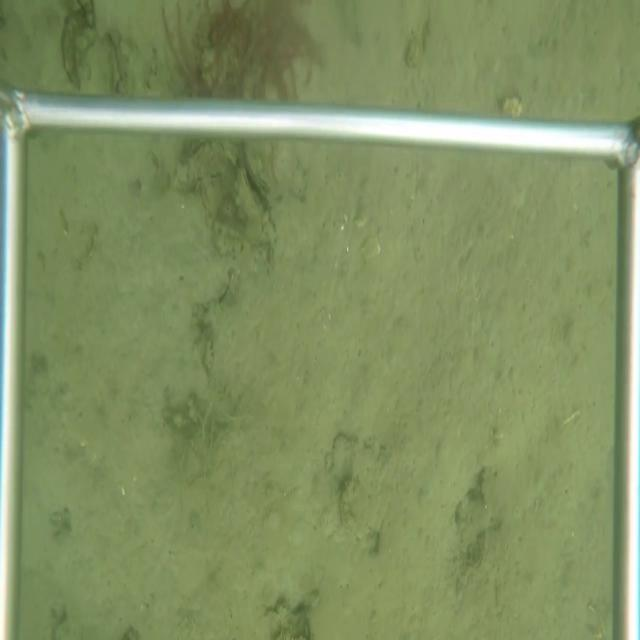Oyster-Closed: (58, 11, 83, 87), (235, 165, 263, 217)
